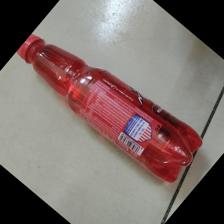Sting: (12, 28, 205, 184)
